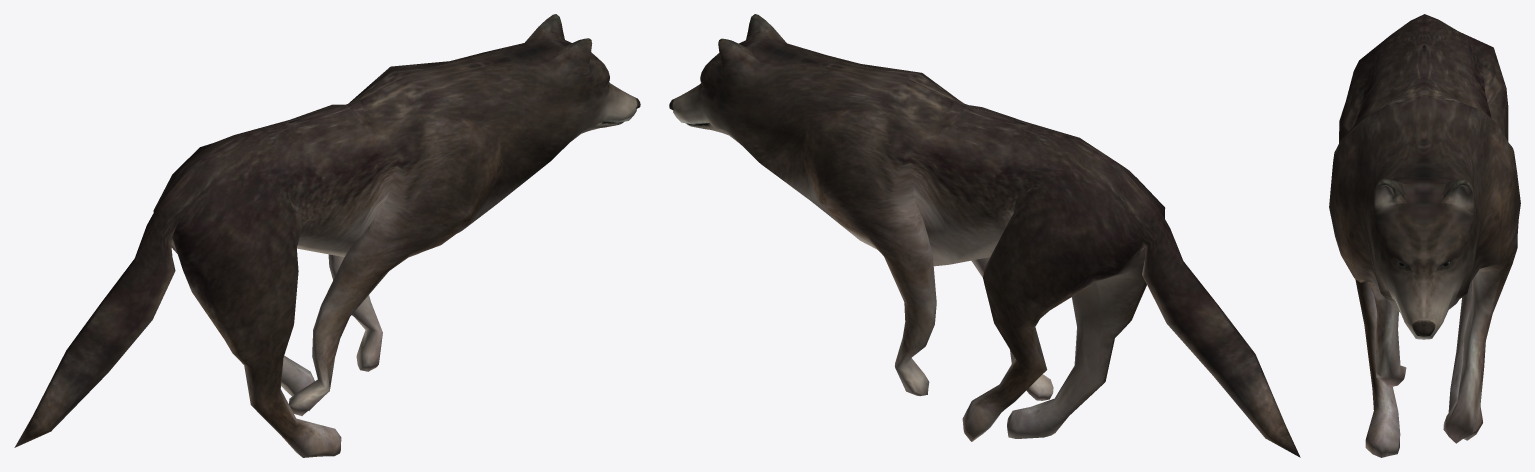
Rendered from wolf_running_000009.obj.
The picture shows the model from 3 angles, left to right: view 1: azimuth 30°, elevation 25°; view 2: azimuth 150°, elevation 25°; view 3: azimuth 270°, elevation 25°; orthographic projection. The views are drawn at different scales.
Parts seen in each view (by area): view 1: Wolf1_Material__wolf_col_tga_0; view 2: Wolf1_Material__wolf_col_tga_0; view 3: Wolf1_Material__wolf_col_tga_0.
Part boxes in pixels (box(x1,y1,x2,y2)): Wolf1_Material__wolf_col_tga_0: box(14, 14, 640, 457); Wolf1_Material__wolf_col_tga_0: box(669, 14, 1300, 457); Wolf1_Material__wolf_col_tga_0: box(1329, 14, 1520, 457).
Size of the model in its own units: 0.9268 by 0.4976 by 0.2038.
2 materials, 2 textured.
